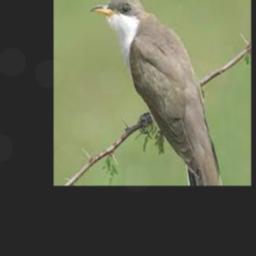Cuckoo: (90, 0, 223, 185)
